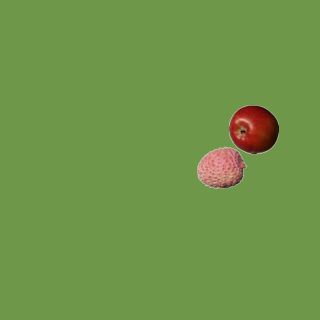Apple Braeburn: (228, 104, 278, 154)
Lychee: (196, 142, 246, 192)
